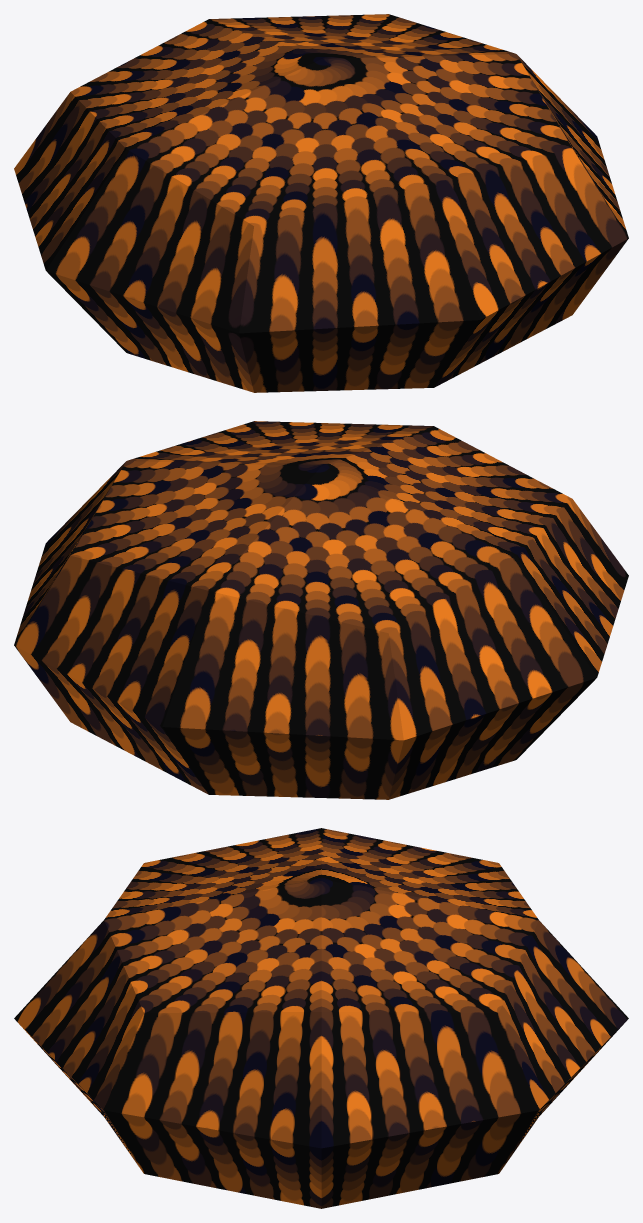
Rendered from exitportal.fbx.
The picture shows the model from 3 angles, top to bottom: view 1: azimuth 30°, elevation 25°; view 2: azimuth 150°, elevation 25°; view 3: azimuth 270°, elevation 25°; orthographic projection. The views are drawn at different scales.
Visible parts, largest first — view 1: pPlatonic1; view 2: pPlatonic1; view 3: pPlatonic1.
Boxes of the visible parts, <box> form: pPlatonic1: <box>14,14,628,392</box>; pPlatonic1: <box>14,421,628,799</box>; pPlatonic1: <box>14,828,628,1208</box>.
Bounding box in the file's own units: 2 × 1 × 2.
Materials: 1 (1 with a texture image).
